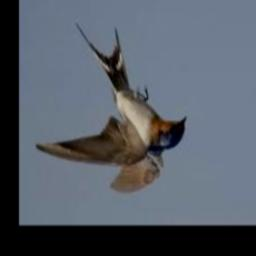Swallow: (35, 22, 186, 194)
